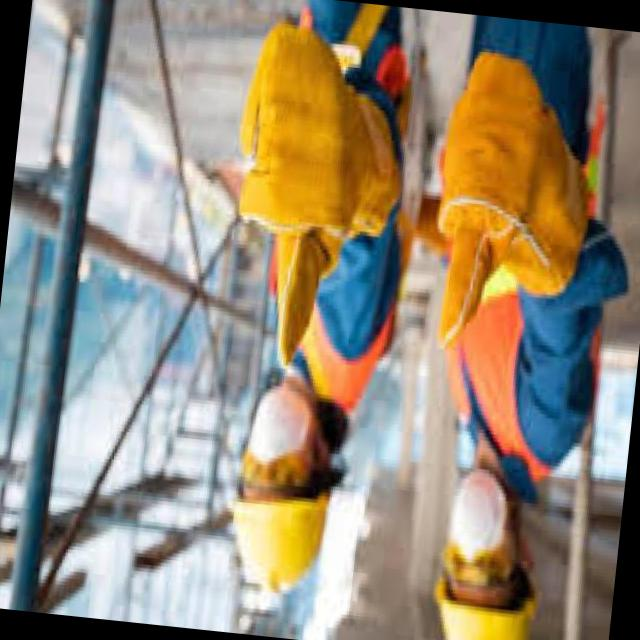gloved: (216, 2, 420, 380), (422, 48, 606, 366)
